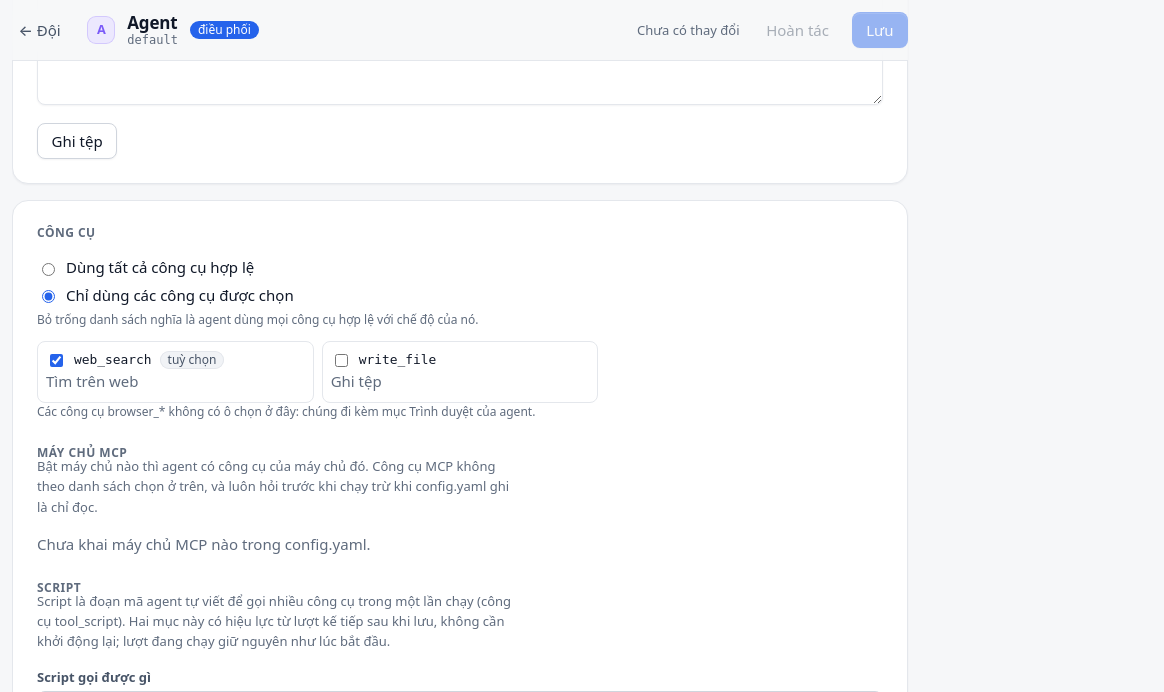
Test case: the allow-list an agent's file writes › saves the list with one more tick, never the names the agent holds
The image size is (1164, 692).
(page scrolled)
Click the checkbox labelled "write_file": click(341, 360) [335,354,348,367]
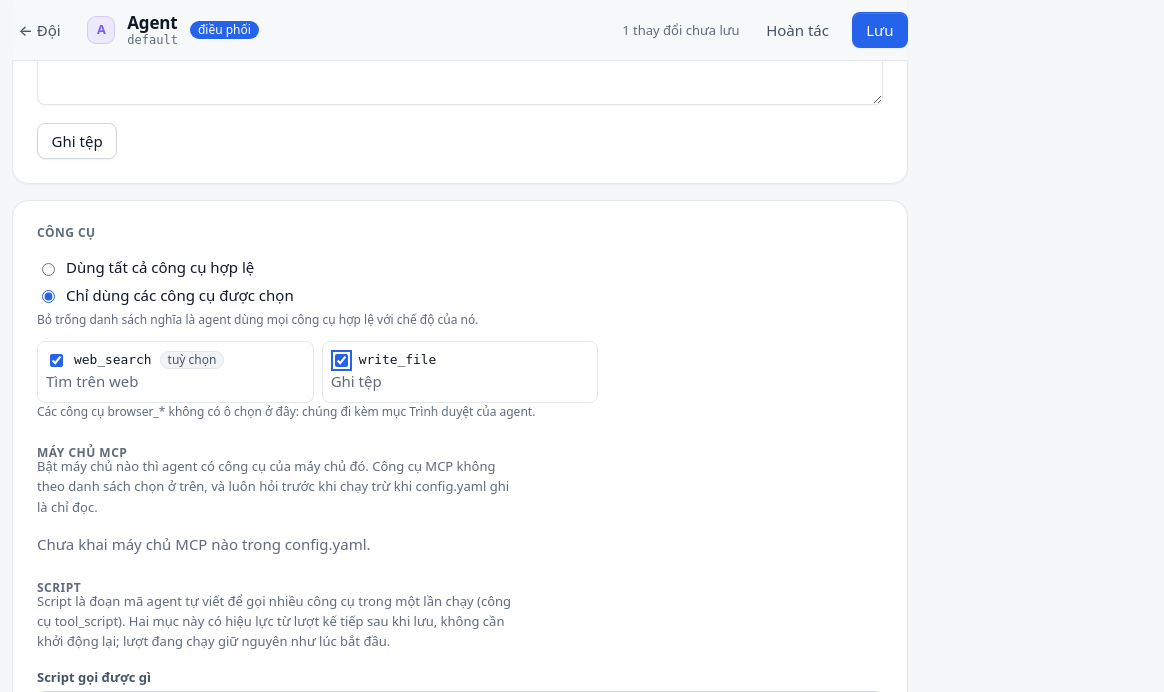
Click the button "Lưu": click(880, 30) [852,12,908,48]
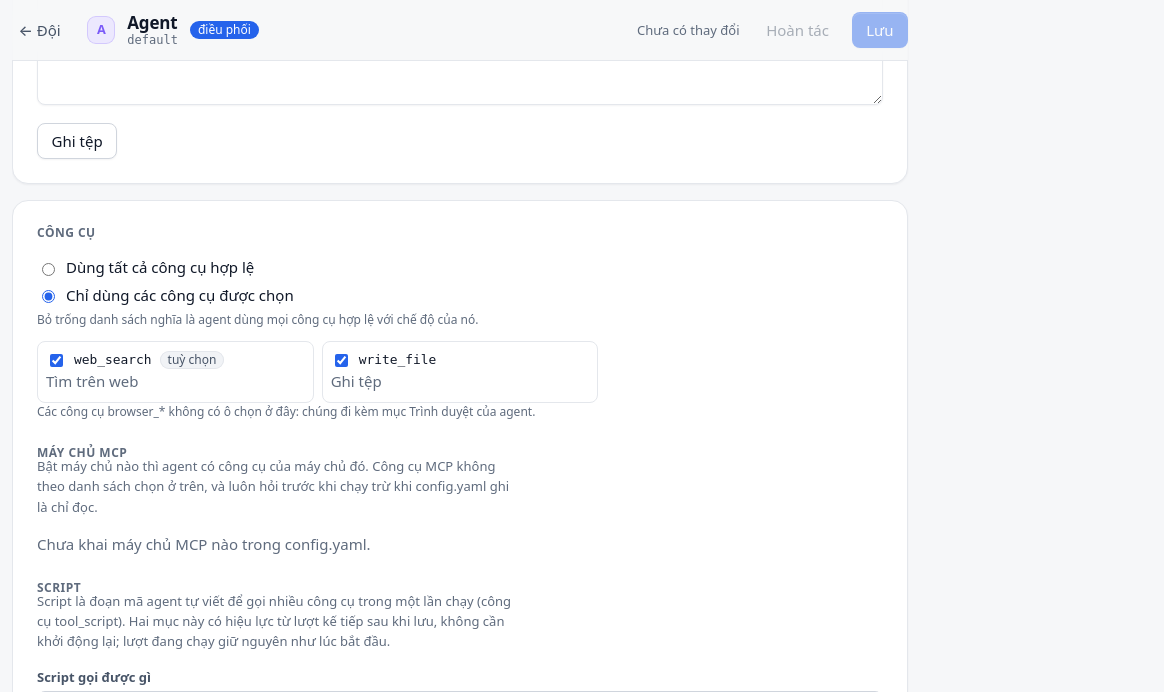
Expected: the radio button labelled "Chỉ dùng các công cụ được chọn" is checked, [42,290,55,303]
Result: the text "Chưa có thay đổi" is shown at [637,20,740,40]
